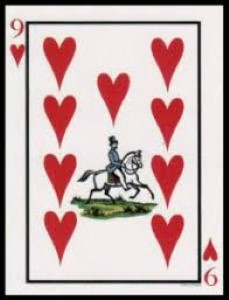NineOfHearts: (6, 5, 222, 289)
